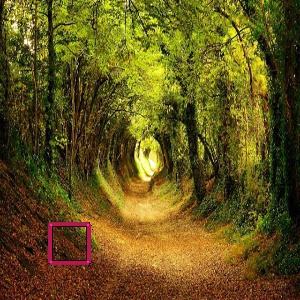square: (46, 219, 93, 267)
